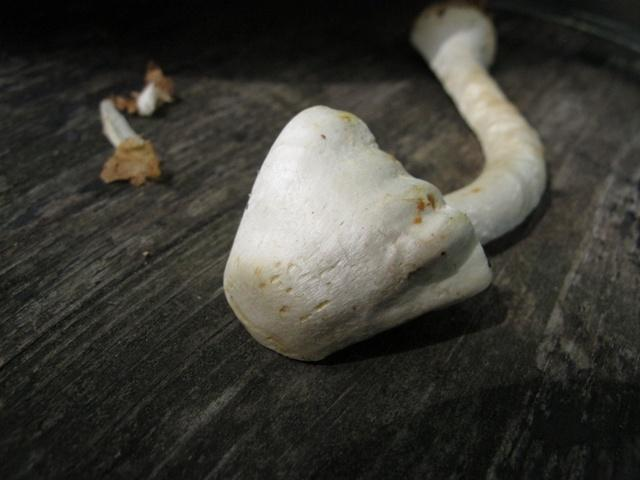Non-edible Mushroom: (221, 102, 494, 362)
